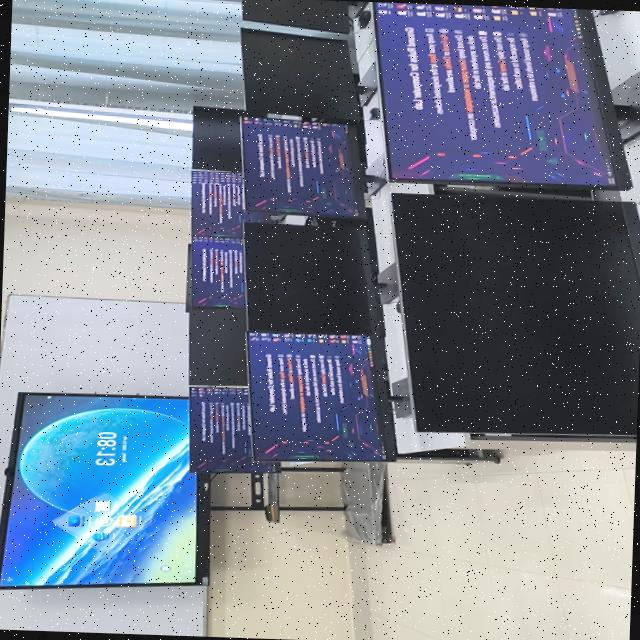Chair: (304, 215, 371, 227)
Digital board: (0, 393, 390, 589)
Monitor: (390, 193, 640, 440), (371, 2, 640, 190), (247, 331, 408, 460), (243, 222, 397, 336), (239, 117, 385, 217), (240, 28, 375, 124), (188, 386, 280, 474), (190, 169, 262, 238), (188, 307, 246, 386), (240, 0, 367, 34), (190, 238, 243, 307), (191, 107, 245, 172), (183, 243, 190, 312)
Mouse: (356, 10, 369, 29), (366, 107, 378, 120), (393, 300, 398, 313)
